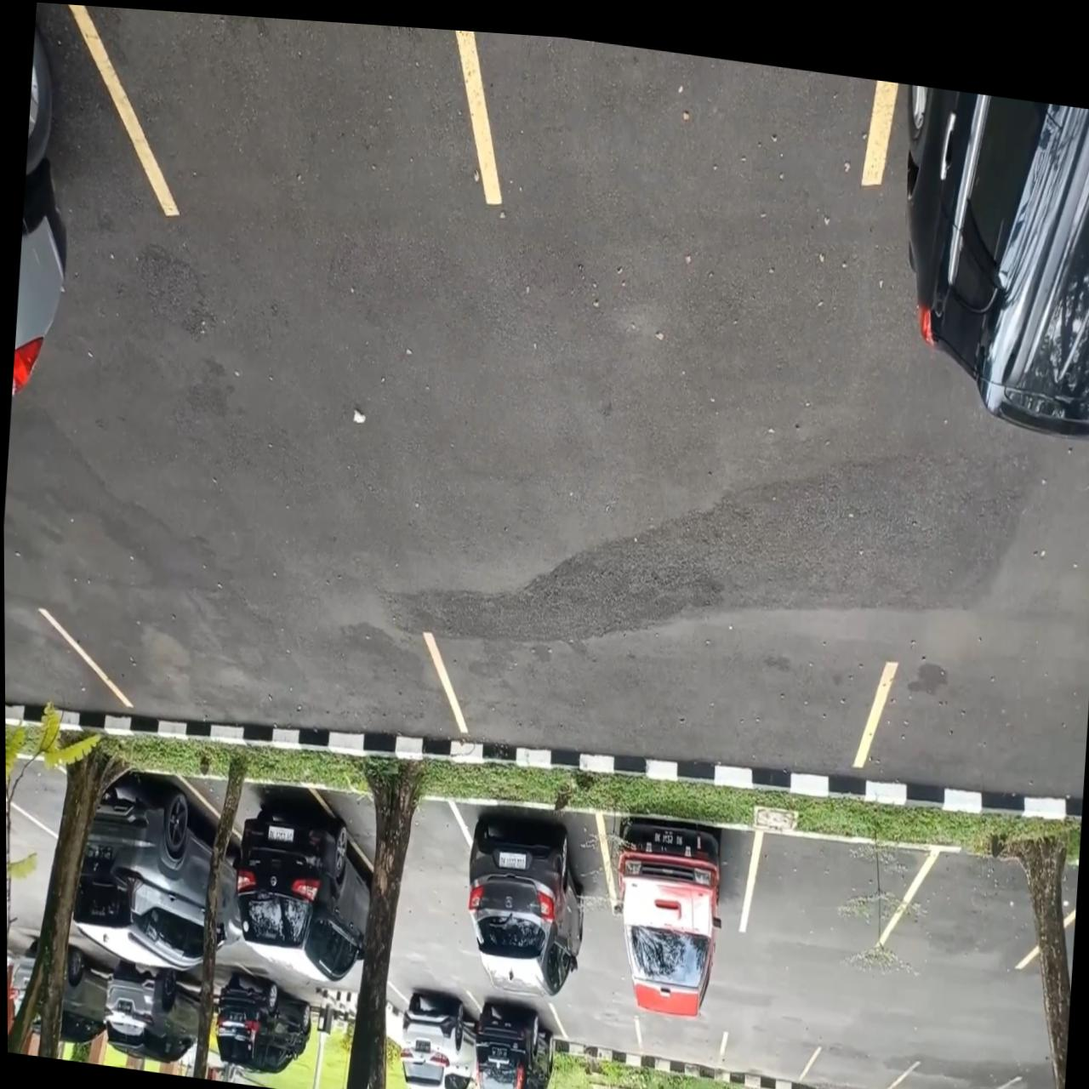cars: (595, 811, 764, 932), (446, 796, 618, 914), (466, 994, 573, 1049)
empty: (67, 4, 504, 217), (420, 631, 898, 789), (456, 30, 900, 197), (45, 610, 471, 754), (738, 827, 943, 951), (875, 844, 1075, 970), (310, 786, 503, 901), (715, 1031, 823, 1086), (792, 1047, 921, 1089), (548, 1002, 644, 1058), (634, 1016, 730, 1072), (887, 1062, 1023, 1089)
